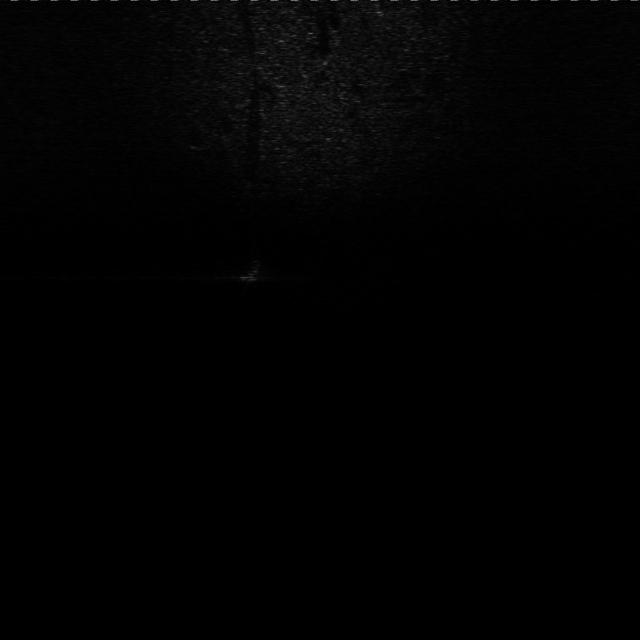human body: (232, 243, 268, 286)
